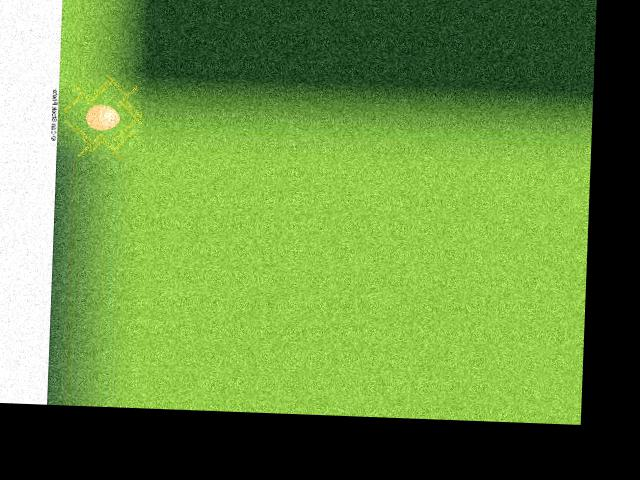egg: (85, 104, 120, 130)
